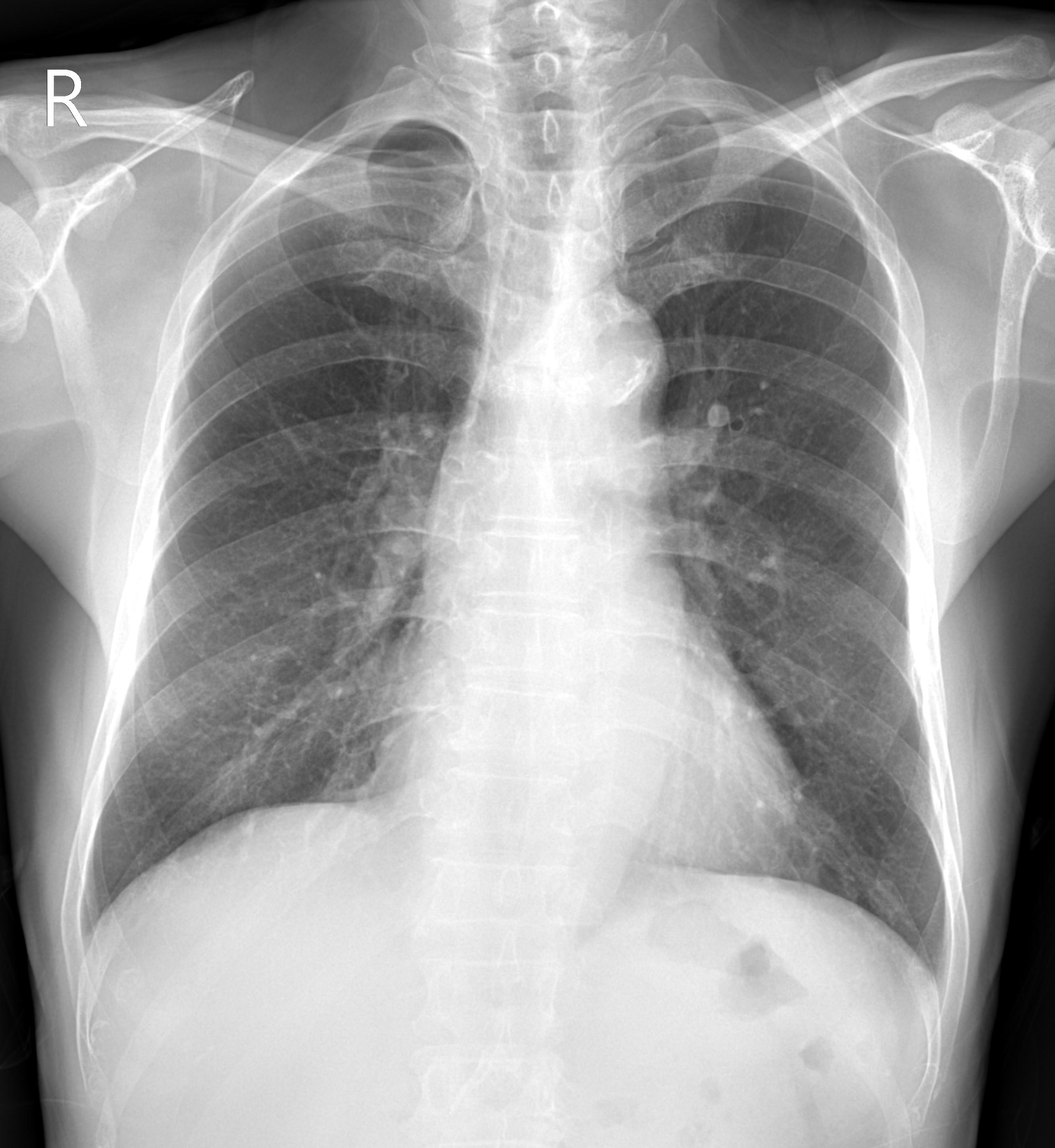Aortic enlargement: (560, 291, 668, 406)
